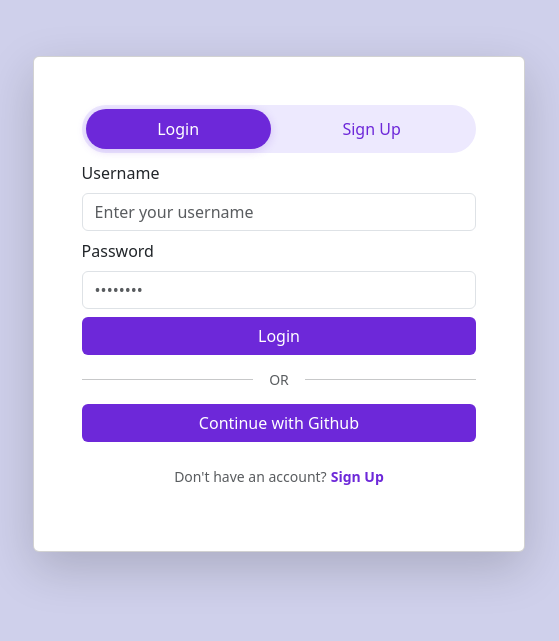
Test: AuthPage Component › should switch to the Sign Up form when "Sign Up" is clicked
Click the button "Sign Up" at coordinates (372, 129), box left=271, top=109, right=472, bottom=149
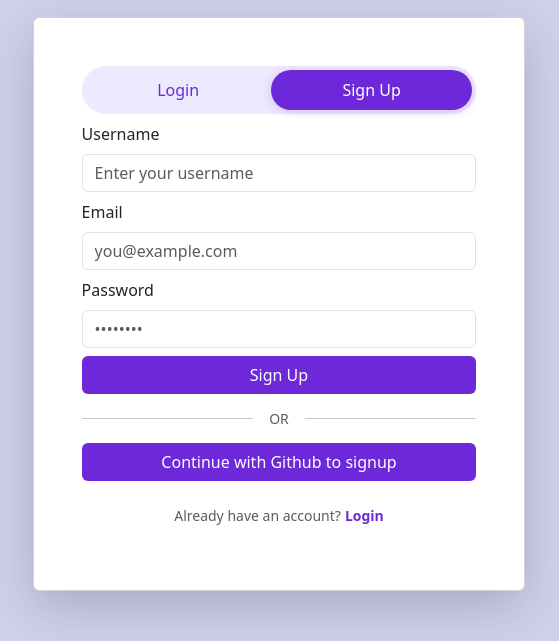
Expected: the number of buttons "Sign Up" is 2, left=271, top=70, right=472, bottom=110; left=82, top=356, right=476, bottom=394
Result: the field labelled "Email" is shown at left=82, top=232, right=476, bottom=270
